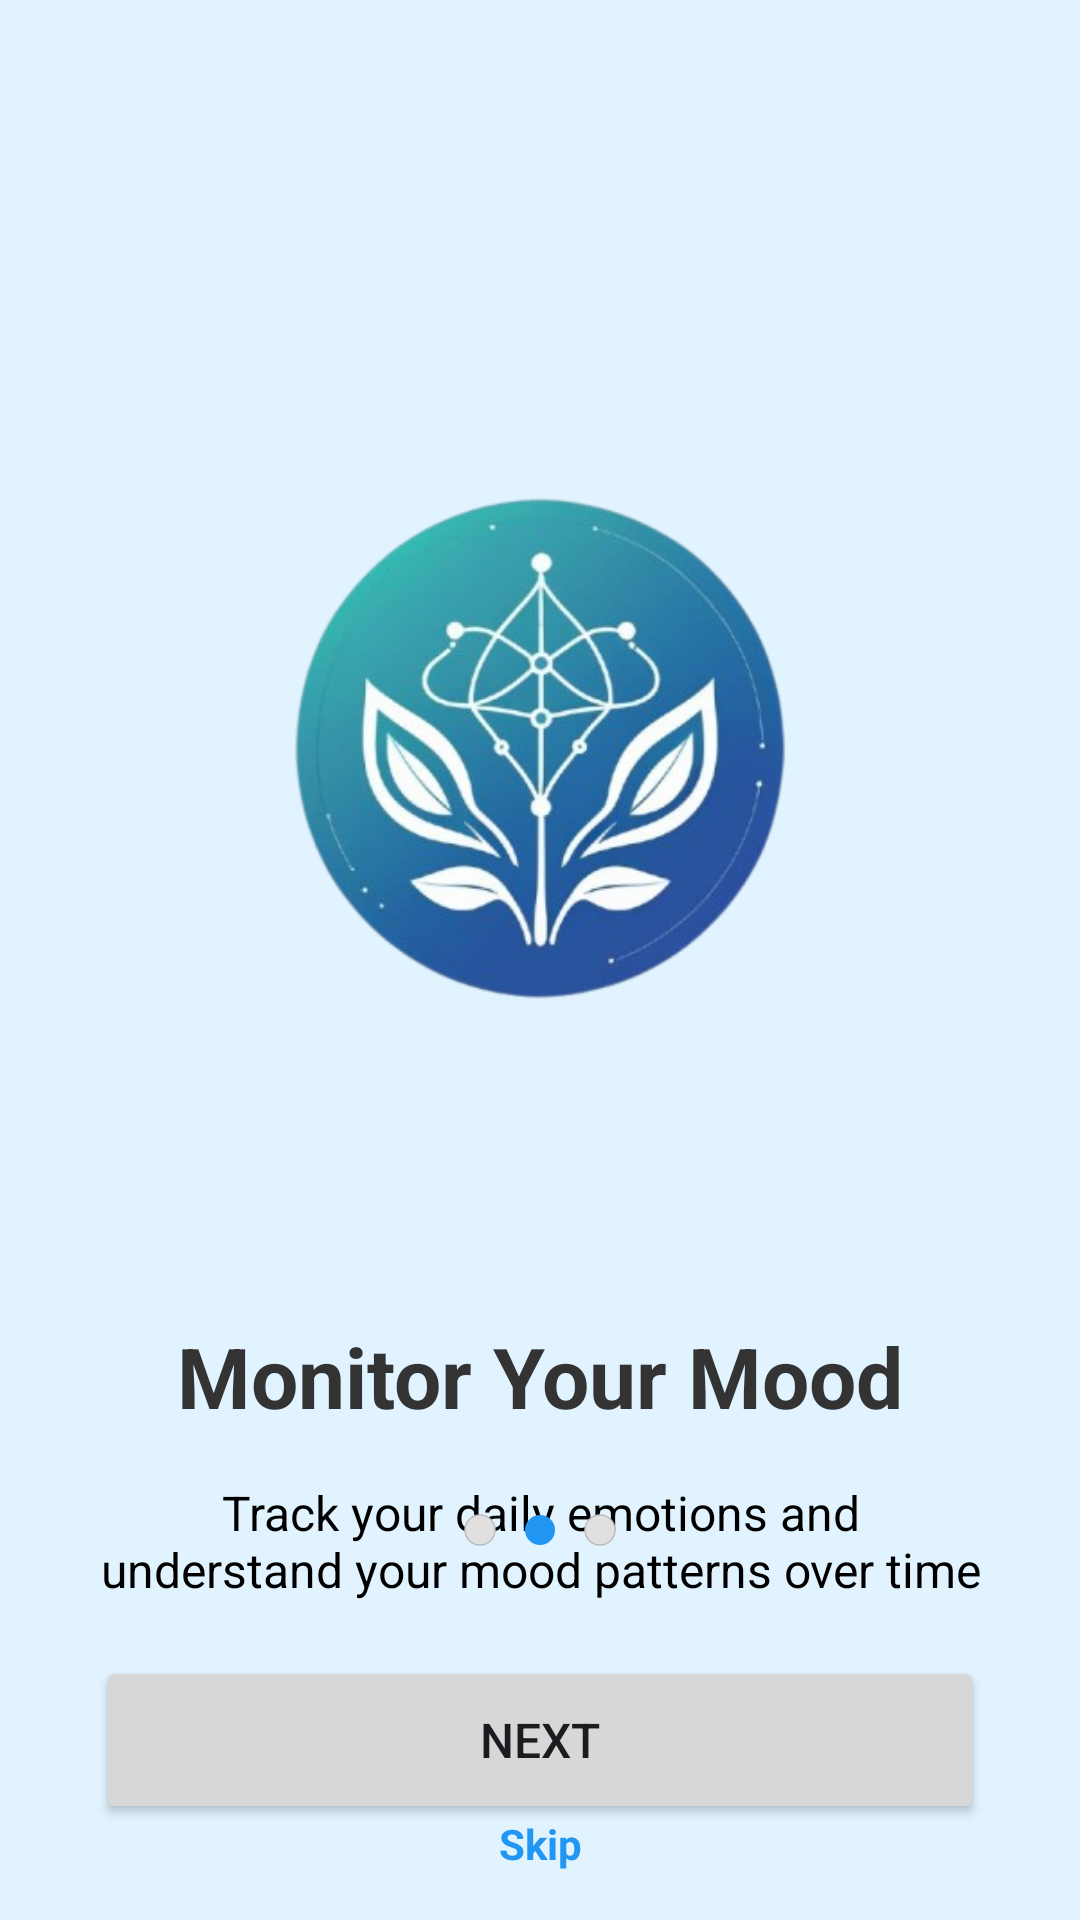

Icons on this 1080x1920 Android screen, each with the point to tap as [x,y]:
indicator: [480,1529], [539,1528], [599,1529]
